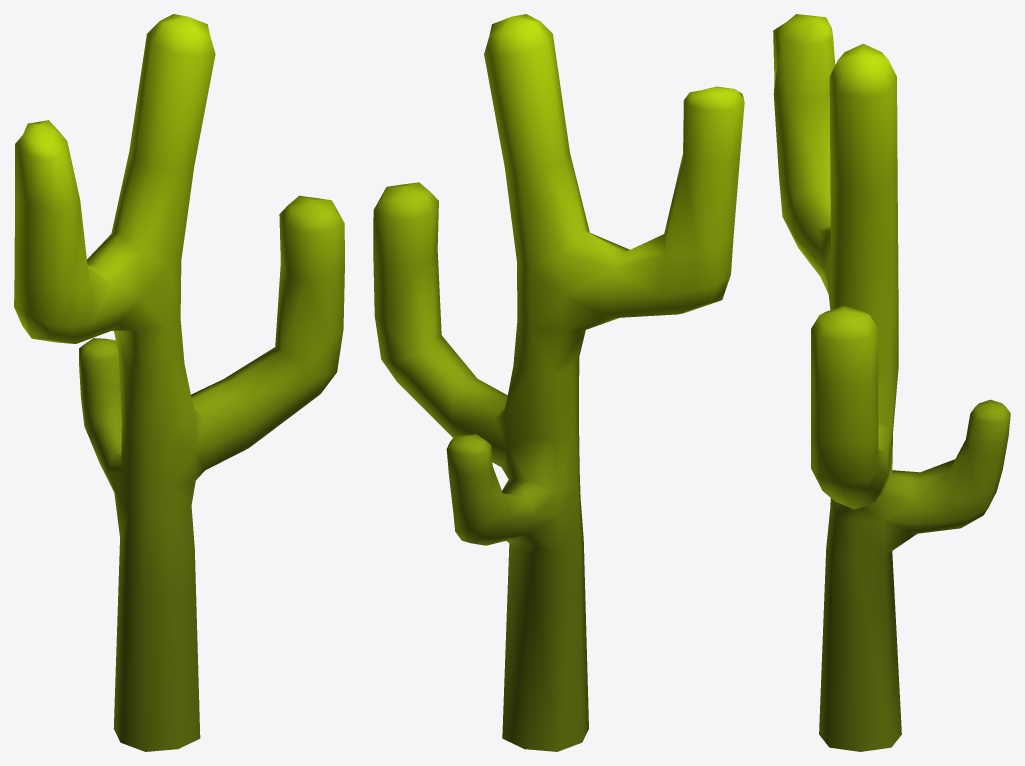
The model's file is Kactus_B.fbx.
3 renders of one model, left to right at view 1: azimuth 30°, elevation 25°; view 2: azimuth 150°, elevation 25°; view 3: azimuth 270°, elevation 25°, orthographic. The views are drawn at different scales.
Visible parts, largest first — view 1: Kactus_B; view 2: Kactus_B; view 3: Kactus_B.
Boxes of the visible parts, bbox=[...] form: Kactus_B: bbox=[14, 14, 344, 751]; Kactus_B: bbox=[373, 14, 744, 751]; Kactus_B: bbox=[773, 14, 1010, 751].
Size of the model in its own units: 142 by 285 by 88.34.
